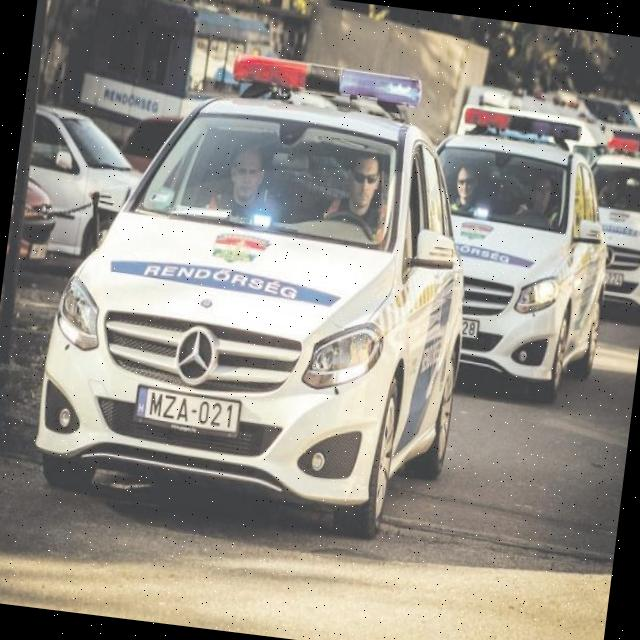licence: (132, 384, 245, 440)
